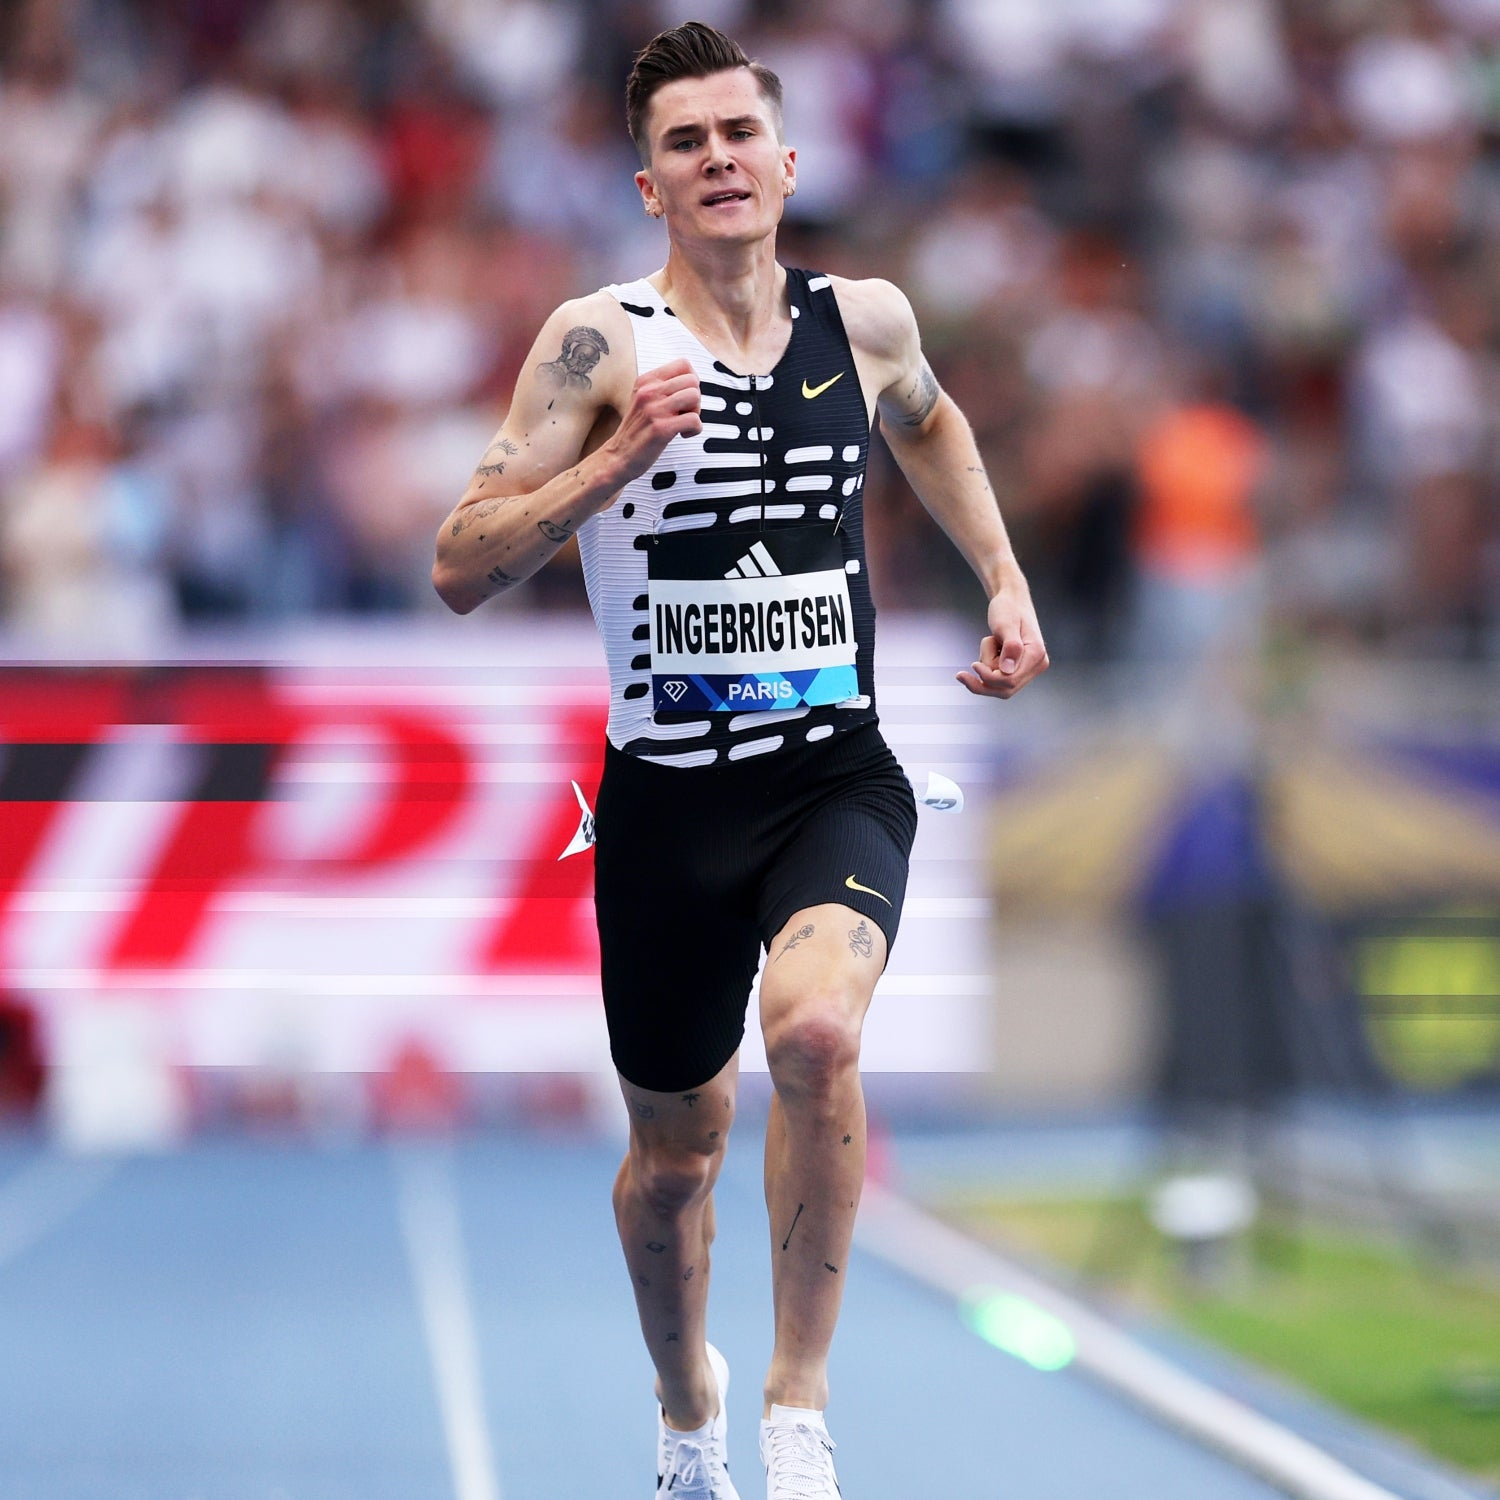runner: (446, 32, 1054, 1500)
